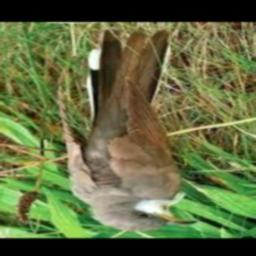Cuckoo: (65, 33, 198, 231)
